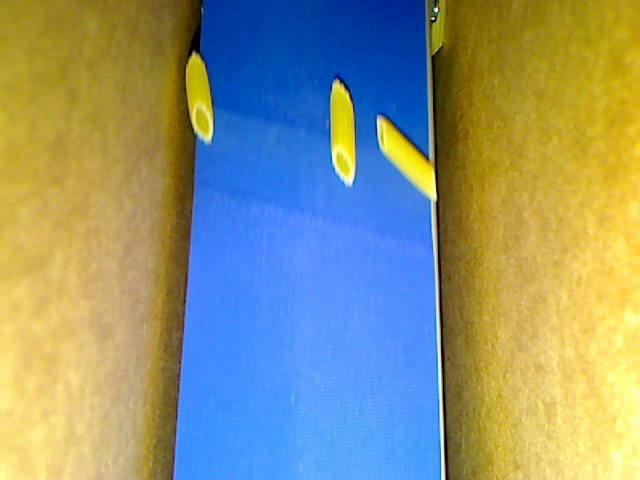penne: (374, 115, 438, 201), (329, 74, 360, 189), (184, 46, 216, 140), (422, 1, 450, 61)
